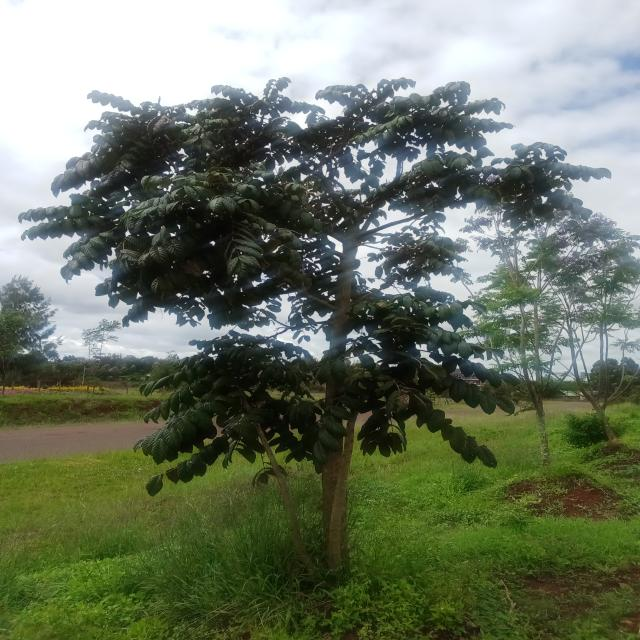Polyscias Kikuyensis: (23, 70, 609, 580)
